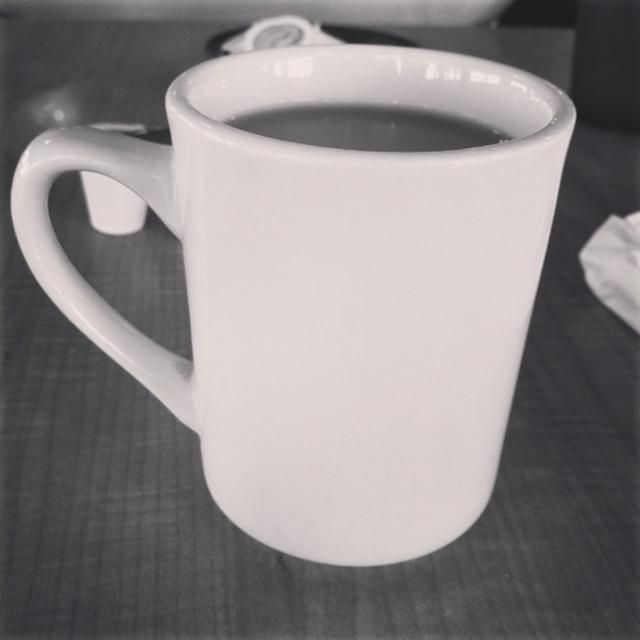Coffee: (23, 32, 593, 565)
